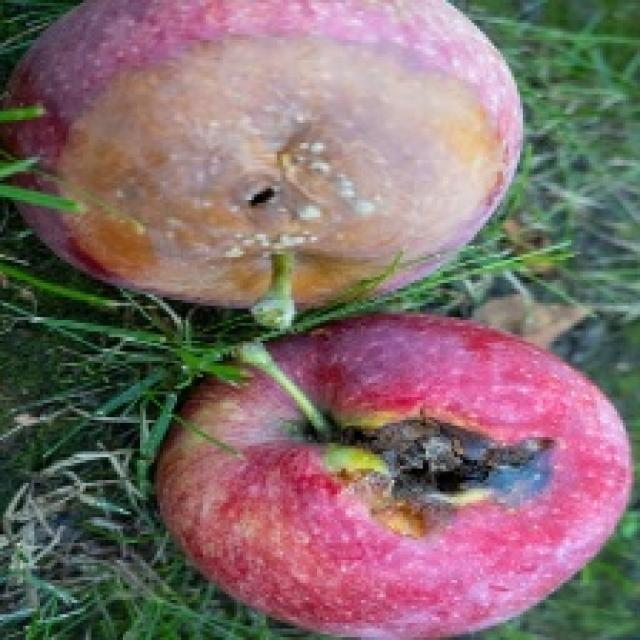rotten_apple: (12, 0, 514, 303), (170, 323, 629, 634)
